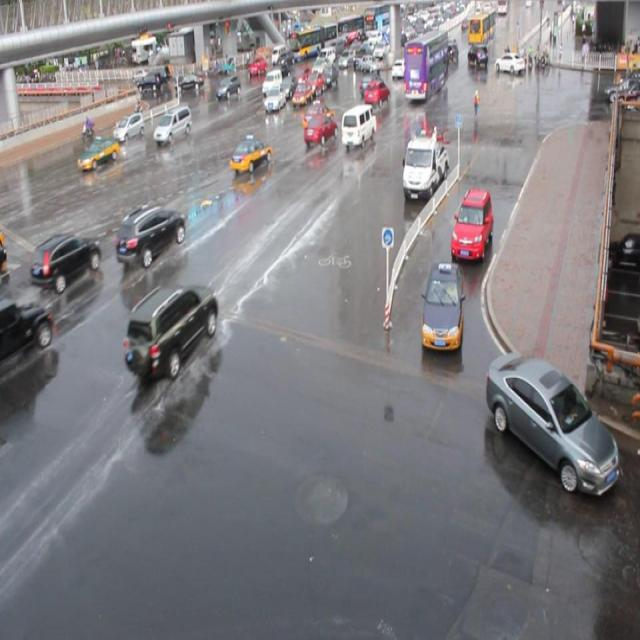bus: (401, 132, 446, 202)
car: (485, 351, 618, 495), (123, 282, 217, 378), (114, 202, 185, 267), (29, 231, 102, 293), (420, 260, 464, 349), (0, 298, 52, 372), (449, 188, 493, 260), (228, 134, 272, 172), (153, 106, 191, 143), (77, 135, 119, 168), (302, 112, 336, 146), (112, 111, 144, 142), (301, 99, 334, 127), (363, 80, 389, 106), (215, 74, 240, 100), (264, 89, 286, 114), (358, 73, 382, 94), (292, 84, 312, 109), (306, 74, 324, 97), (279, 78, 297, 100), (293, 69, 310, 90)
truck: (340, 104, 376, 146), (262, 69, 282, 93)
van: (403, 28, 448, 100)
